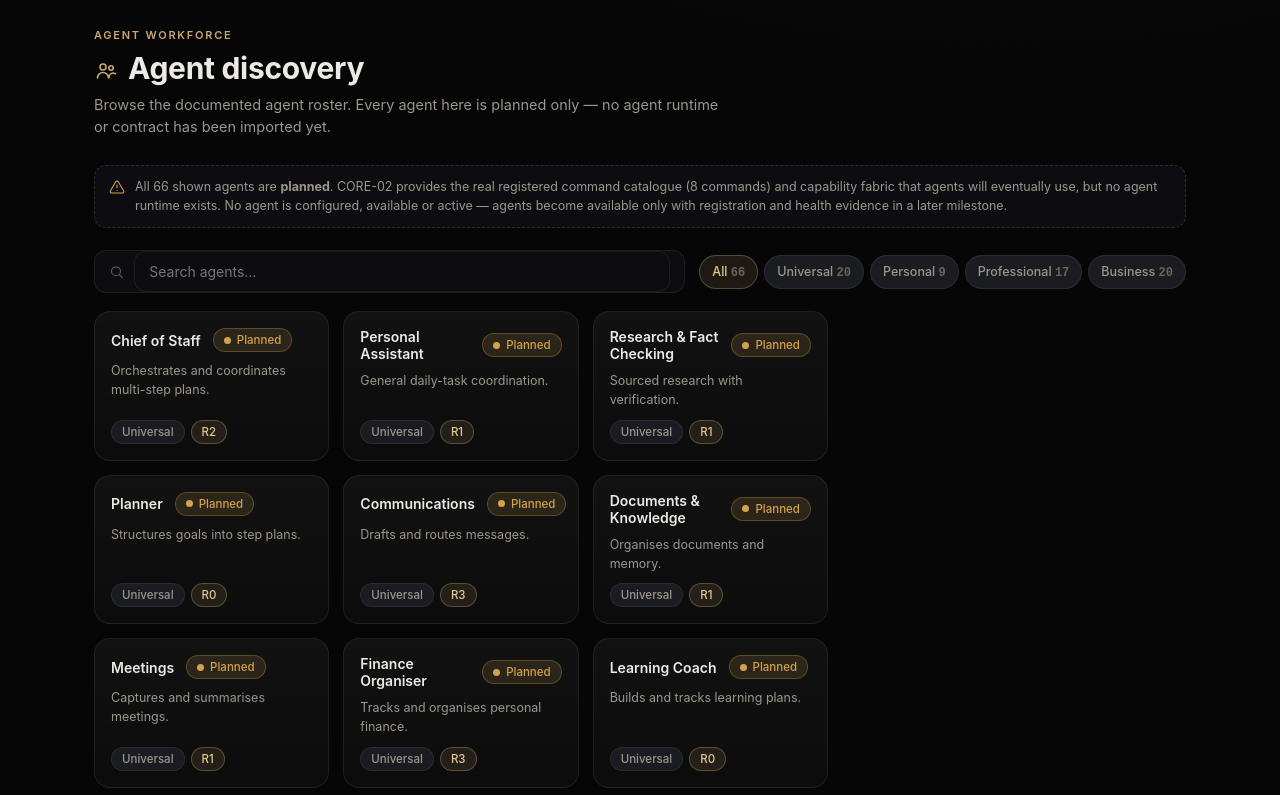
Scenario: Agent Workforce › lists agents and opens a profile with honest contract placeholders
Check: the text "Chief of Staff" is shown, box [111,332,201,349]
click the universal "Chief of Staff" card (not "Owner Chief of Staff")
Click the button "Chief of Staff" at (212, 386), box [94,311,329,461]
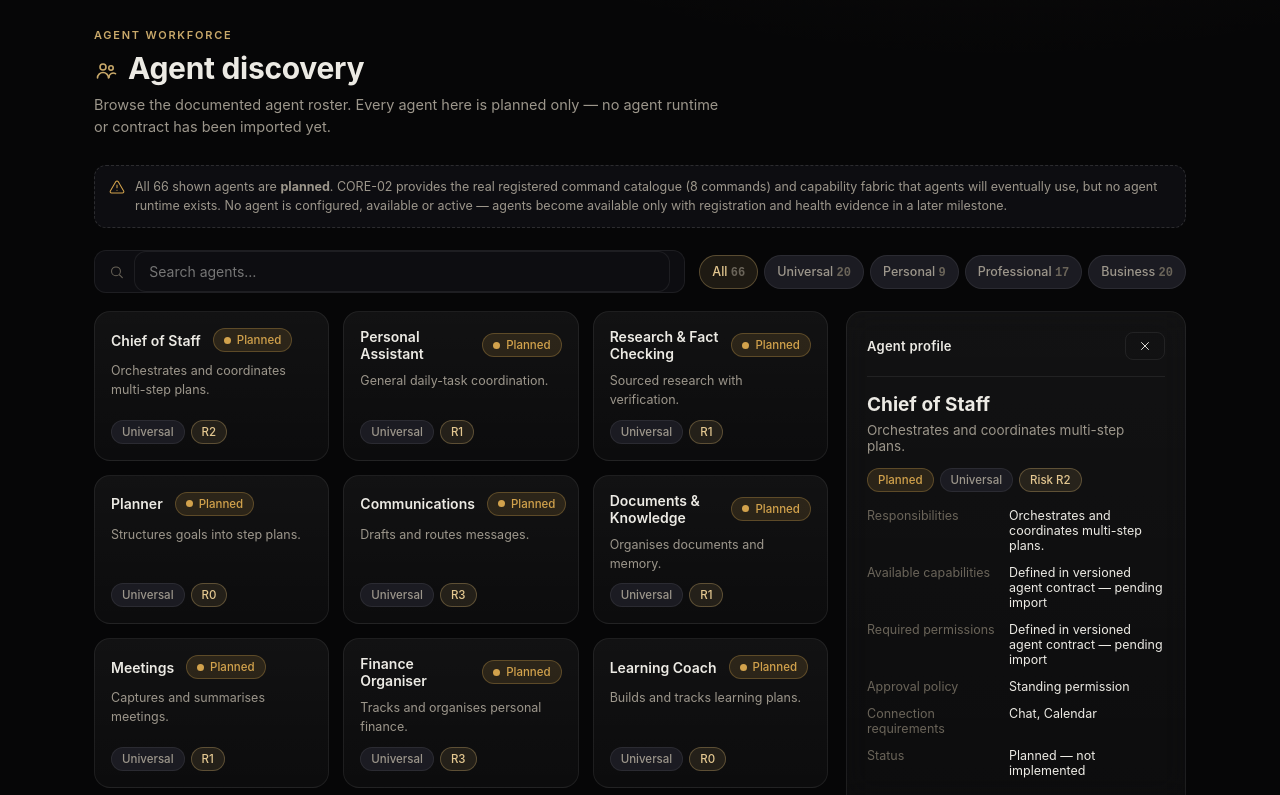
Check: the text "Agent profile" is shown, box [867,338,952,354]
Check: the text "Defined in versioned agent contract — pending import" next to "Available capabilities" is shown, box [1009,565,1163,610]
